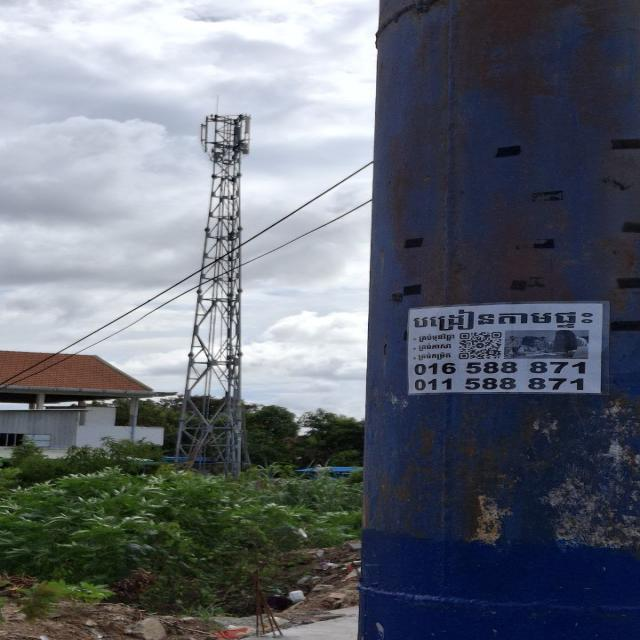Yolov11kh: (406, 301, 604, 333), (409, 330, 461, 342), (407, 342, 457, 352), (409, 352, 457, 362)
